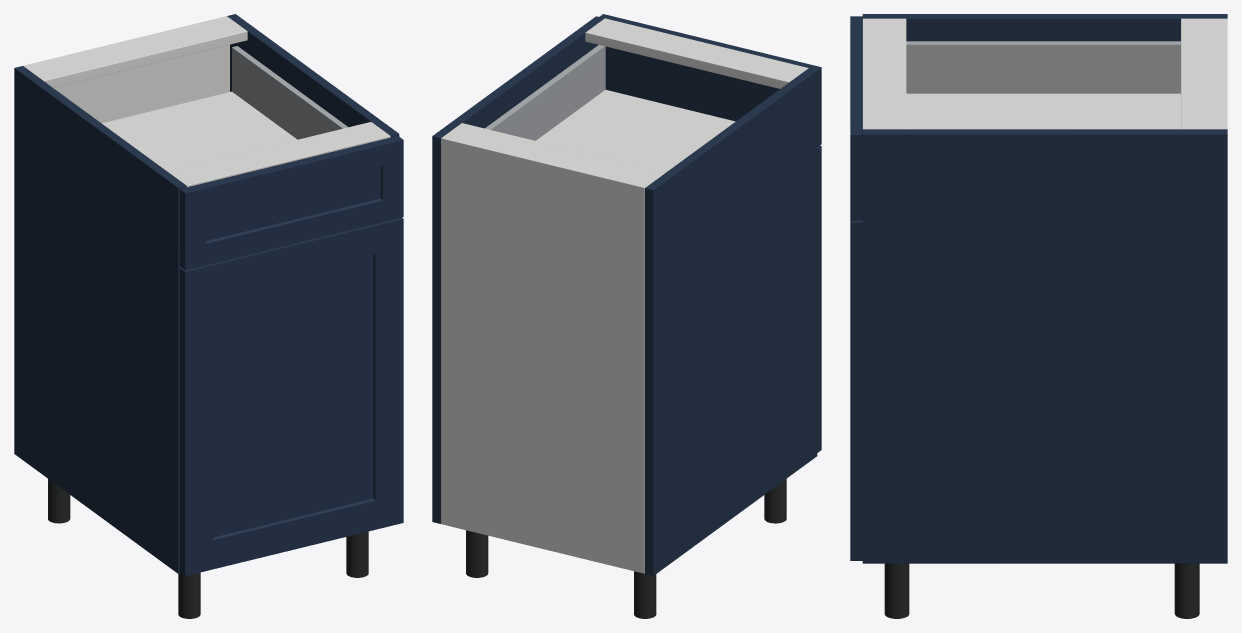
File: oppein-pb-bss-btc18.glb
The picture shows the model from 3 angles, left to right: view 1: azimuth 30°, elevation 25°; view 2: azimuth 150°, elevation 25°; view 3: azimuth 270°, elevation 25°; orthographic projection. The views are drawn at different scales.
Parts seen in each view (by area): view 1: Door, Cabinet side, Drawer front, Drawer floor, Cabinet back, Top support rail, Drawer side.001, Top support rail.001, Cabinet side.001, Adjustable foot.001, Adjustable foot.003, Adjustable foot; view 2: Cabinet back, Cabinet side, Drawer floor, Drawer front, Cabinet side.001, Top support rail.001, Drawer side.001, Top support rail, Door, Adjustable foot, Adjustable foot.002, Adjustable foot.001; view 3: Cabinet side.001, Drawer side, Drawer floor, Cabinet side, Top support rail.001, Top support rail, Door, Drawer front, Adjustable foot.002, Adjustable foot.003, Cabinet back.
Part boxes in pixels (x1,y1,x2,y2): Door: [179, 217, 403, 575]; Cabinet side: [14, 66, 186, 573]; Drawer front: [179, 136, 403, 270]; Drawer floor: [102, 91, 297, 171]; Cabinet back: [23, 16, 229, 123]; Top support rail: [25, 18, 247, 87]; Drawer side.001: [232, 46, 348, 139]; Top support rail.001: [167, 122, 390, 187]; Cabinet side.001: [227, 14, 399, 137]; Adjustable foot.001: [178, 572, 200, 618]; Adjustable foot.003: [346, 531, 368, 577]; Adjustable foot: [48, 479, 70, 523]; Cabinet back: [441, 136, 647, 573]; Cabinet side: [645, 68, 817, 575]; Drawer floor: [536, 89, 735, 172]; Drawer front: [599, 14, 821, 146]; Cabinet side.001: [432, 16, 604, 523]; Top support rail.001: [585, 18, 808, 88]; Drawer side.001: [485, 45, 605, 140]; Top support rail: [444, 123, 665, 185]; Door: [817, 145, 821, 452]; Adjustable foot: [634, 571, 656, 618]; Adjustable foot.002: [466, 530, 488, 577]; Adjustable foot.001: [764, 479, 786, 523]; Cabinet side.001: [862, 129, 1227, 563]; Drawer side: [906, 41, 1180, 93]; Drawer floor: [906, 93, 1180, 129]; Cabinet side: [862, 14, 1227, 41]; Top support rail.001: [862, 18, 906, 129]; Top support rail: [1181, 18, 1220, 129]; Door: [850, 220, 862, 560]; Drawer front: [850, 16, 862, 220]; Adjustable foot.002: [1174, 563, 1199, 618]; Adjustable foot.003: [884, 563, 909, 618]; Cabinet back: [1220, 18, 1227, 129].
Size of the model in its own units: 0.4572 by 0.8763 by 0.6064.
